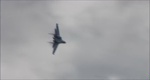maybay_muctieu: (48, 21, 66, 55)
